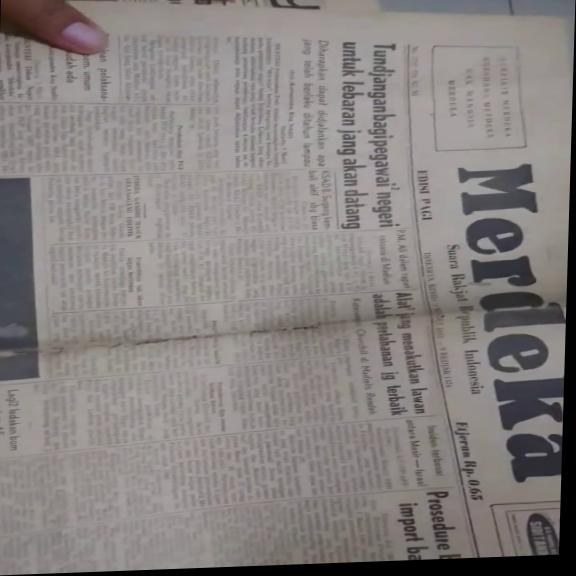Kertas: (380, 0, 572, 558)
